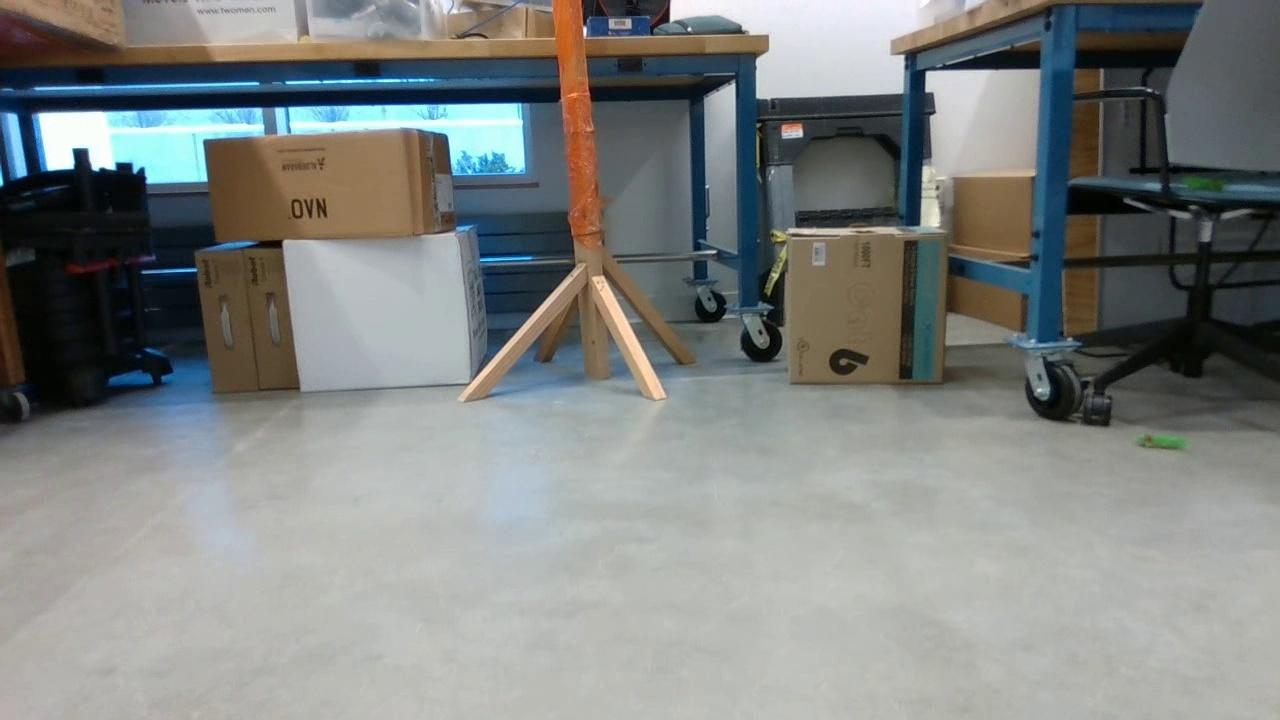grasshopper: (1133, 429, 1193, 450)
